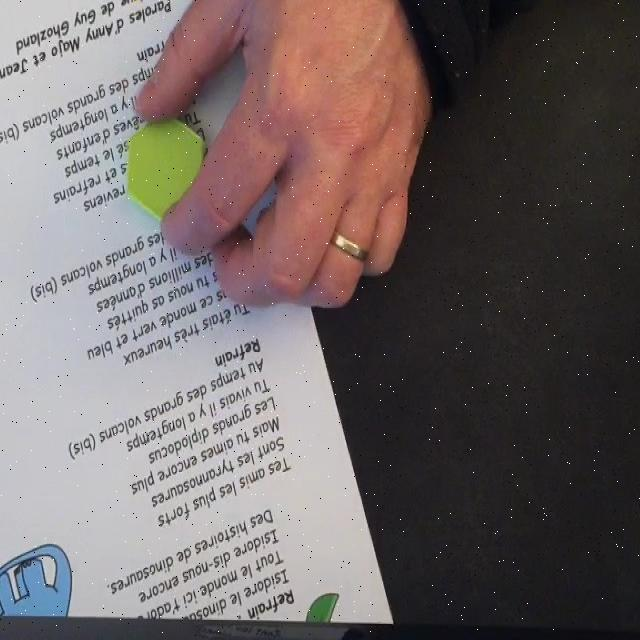hexagon: (123, 108, 206, 220)
